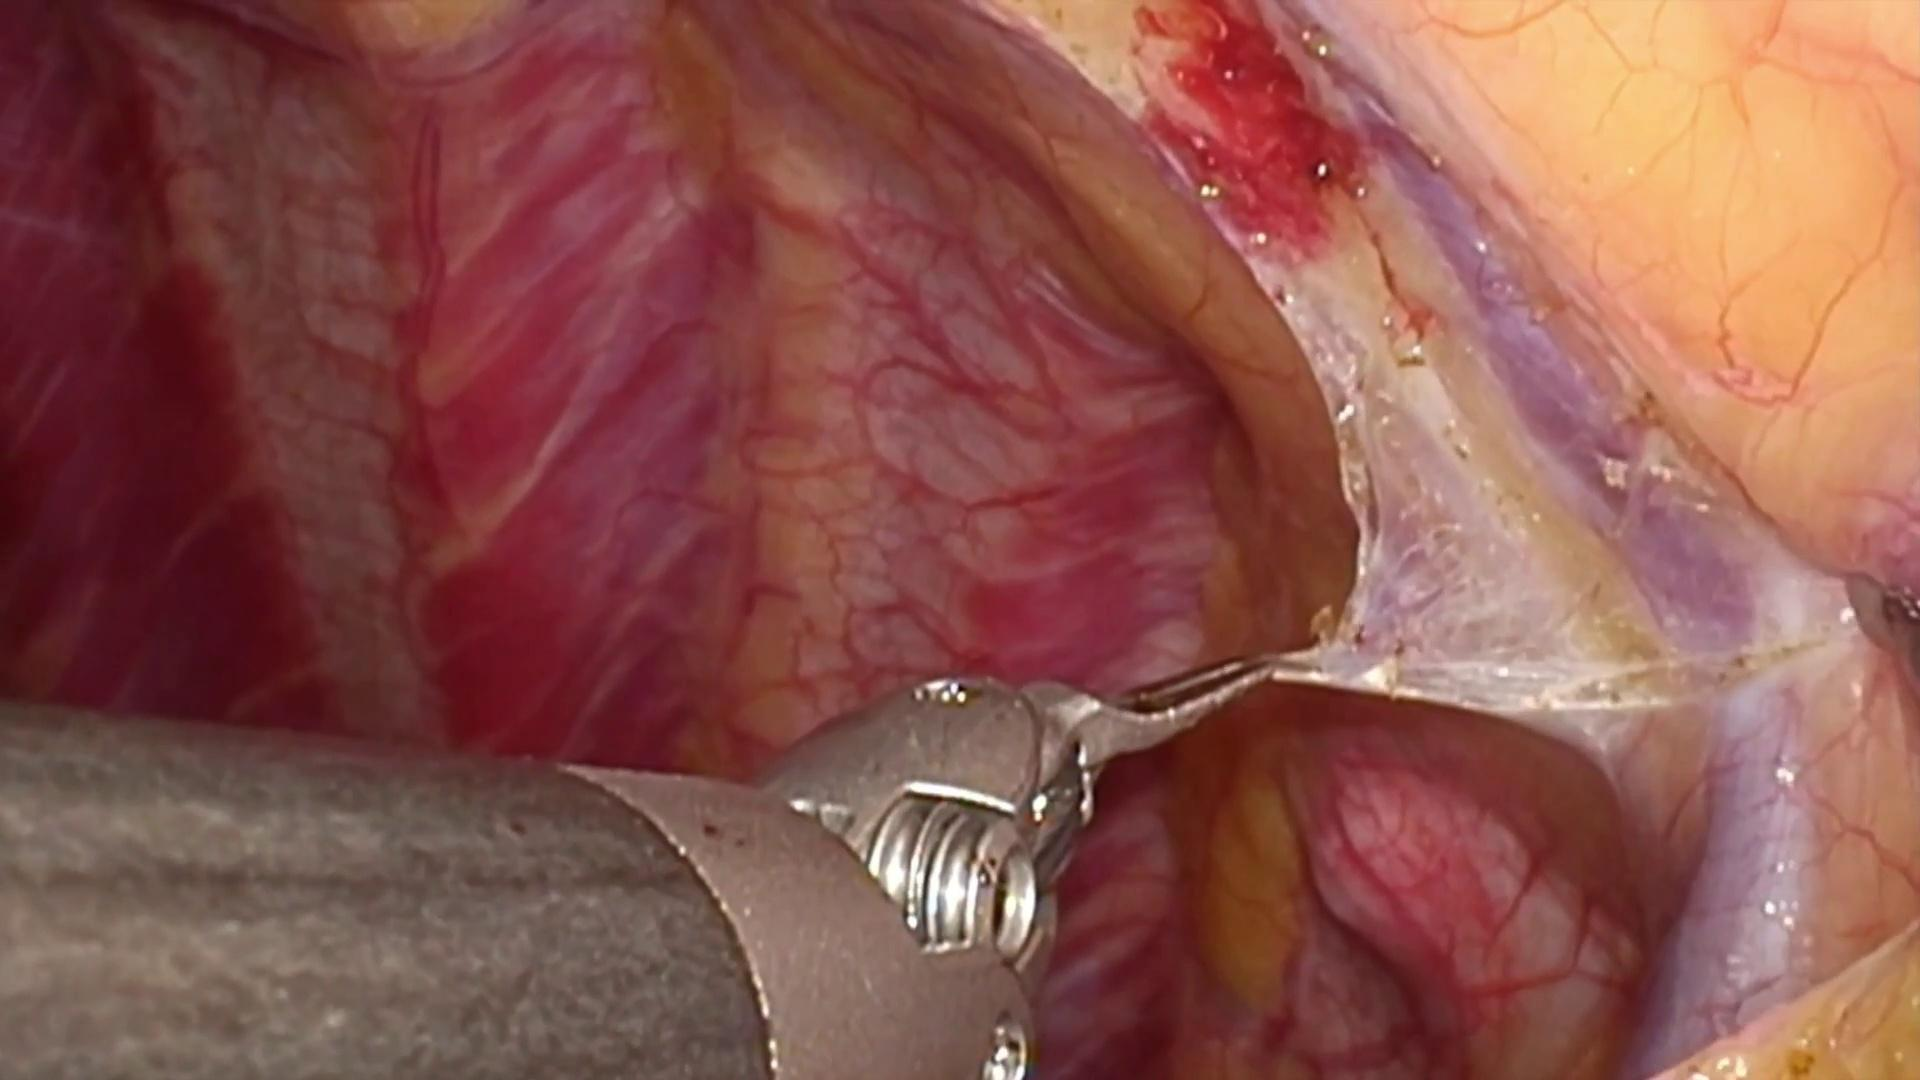Cautery_Spatula: (1840, 564, 1920, 694)
Debakey: (1022, 641, 1291, 835)
